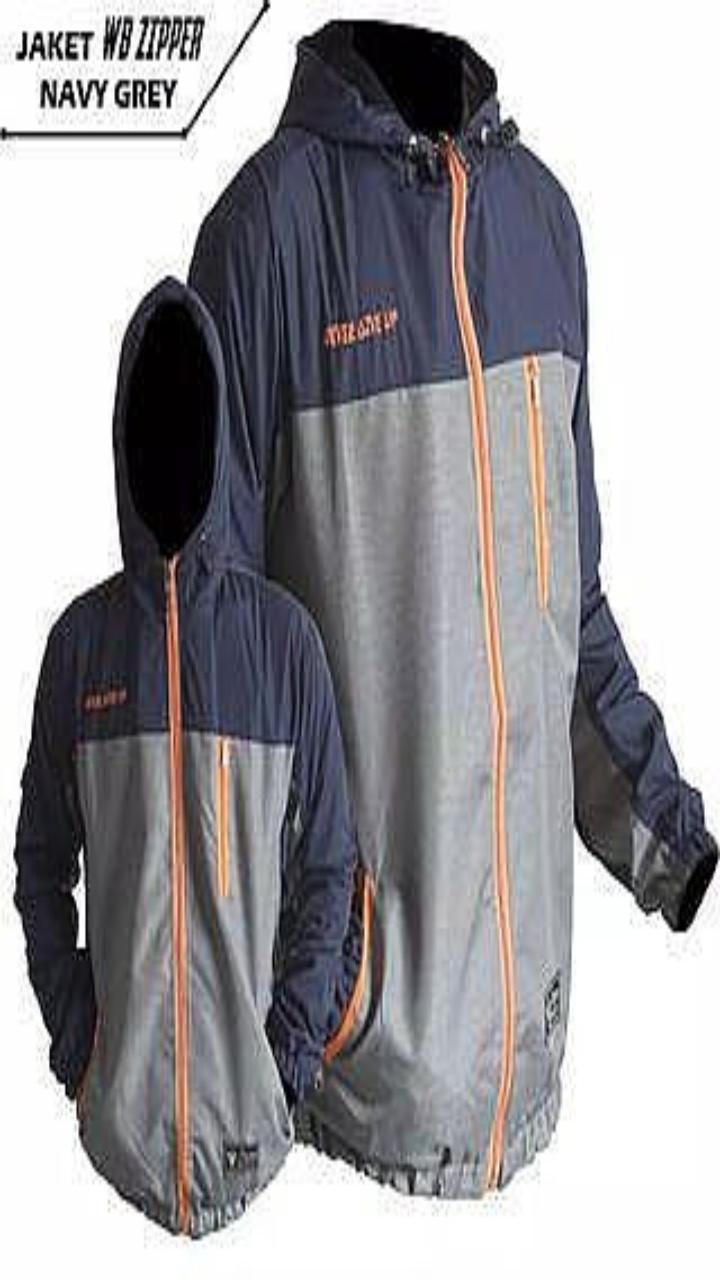Sports_Jacket: (191, 22, 716, 1195), (16, 280, 354, 1234)
